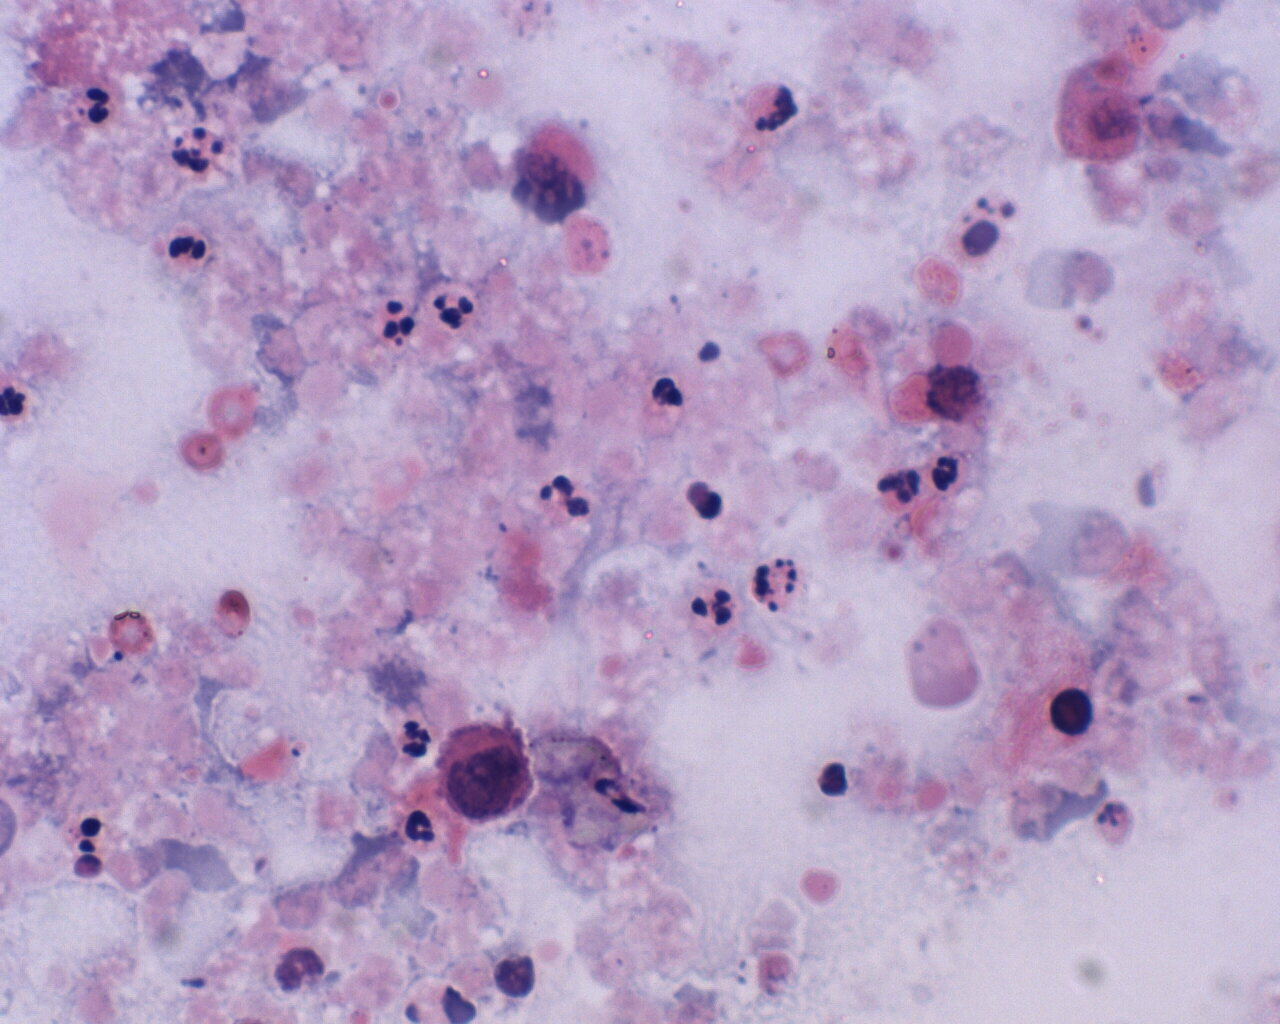ab: (437, 718, 531, 829)
neutro: (428, 281, 479, 334), (689, 583, 742, 631), (166, 220, 215, 272), (393, 715, 437, 764), (397, 806, 441, 850)
